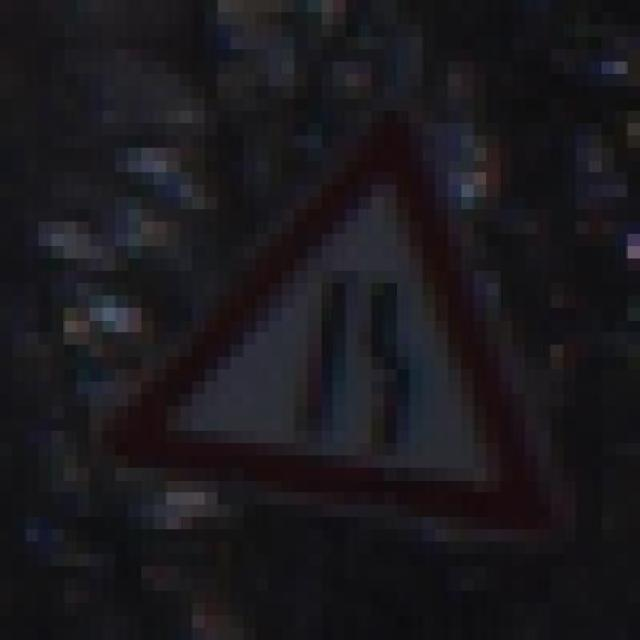-Road narrows on right: (110, 91, 572, 558)
